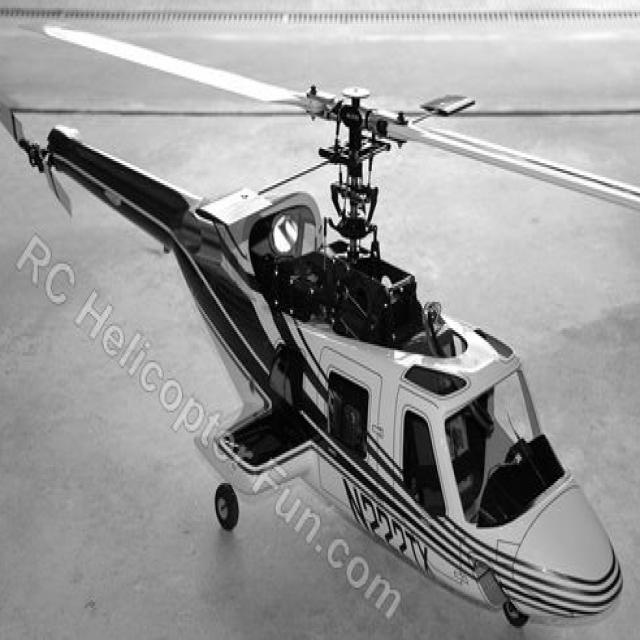helicopter: (49, 1, 628, 640)
